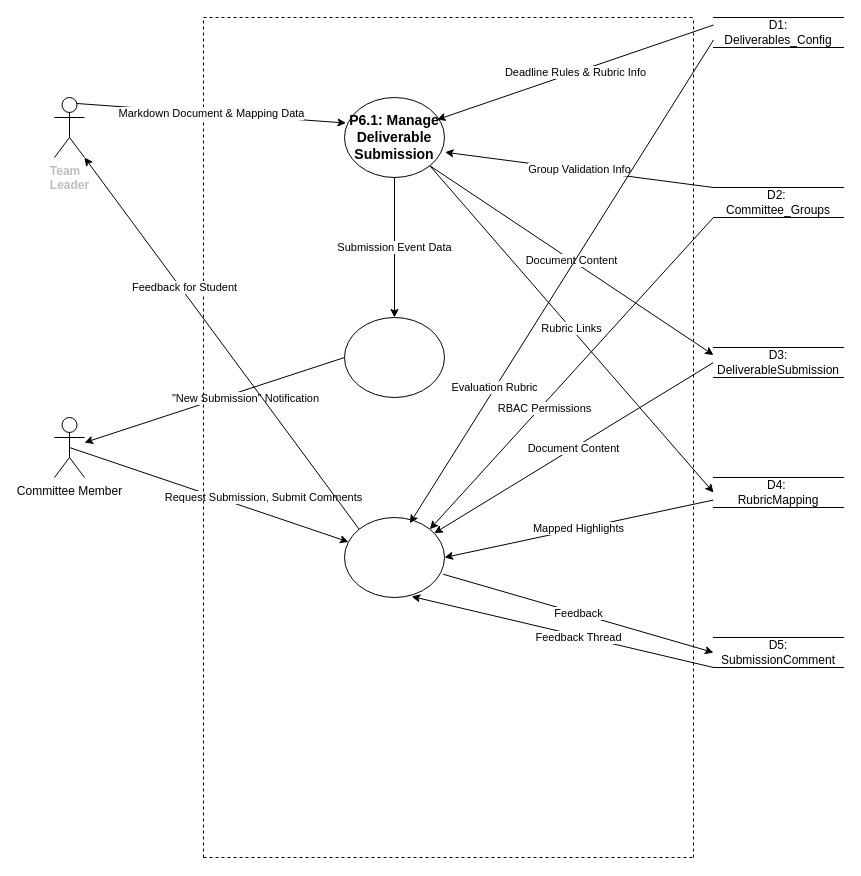
The diagram is 861 pixels wide and 876 high, and some of its shapes have lost their labels. Here are the shapes that lost their labels. From the top down, the centre of each, then its label:
At (x=394, y=357): "P6.2: Dispatch Notifications".
At (x=394, y=557): "P6.3: Review & Feedback".
